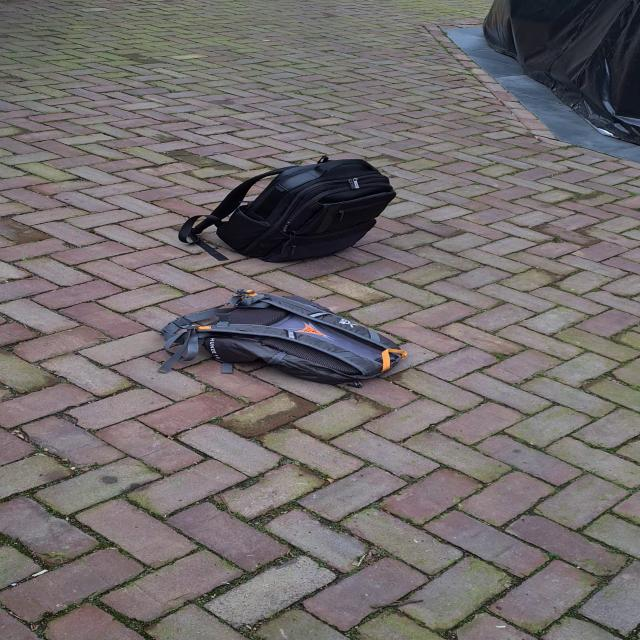backpack: (152, 293, 409, 389), (185, 158, 403, 270)
